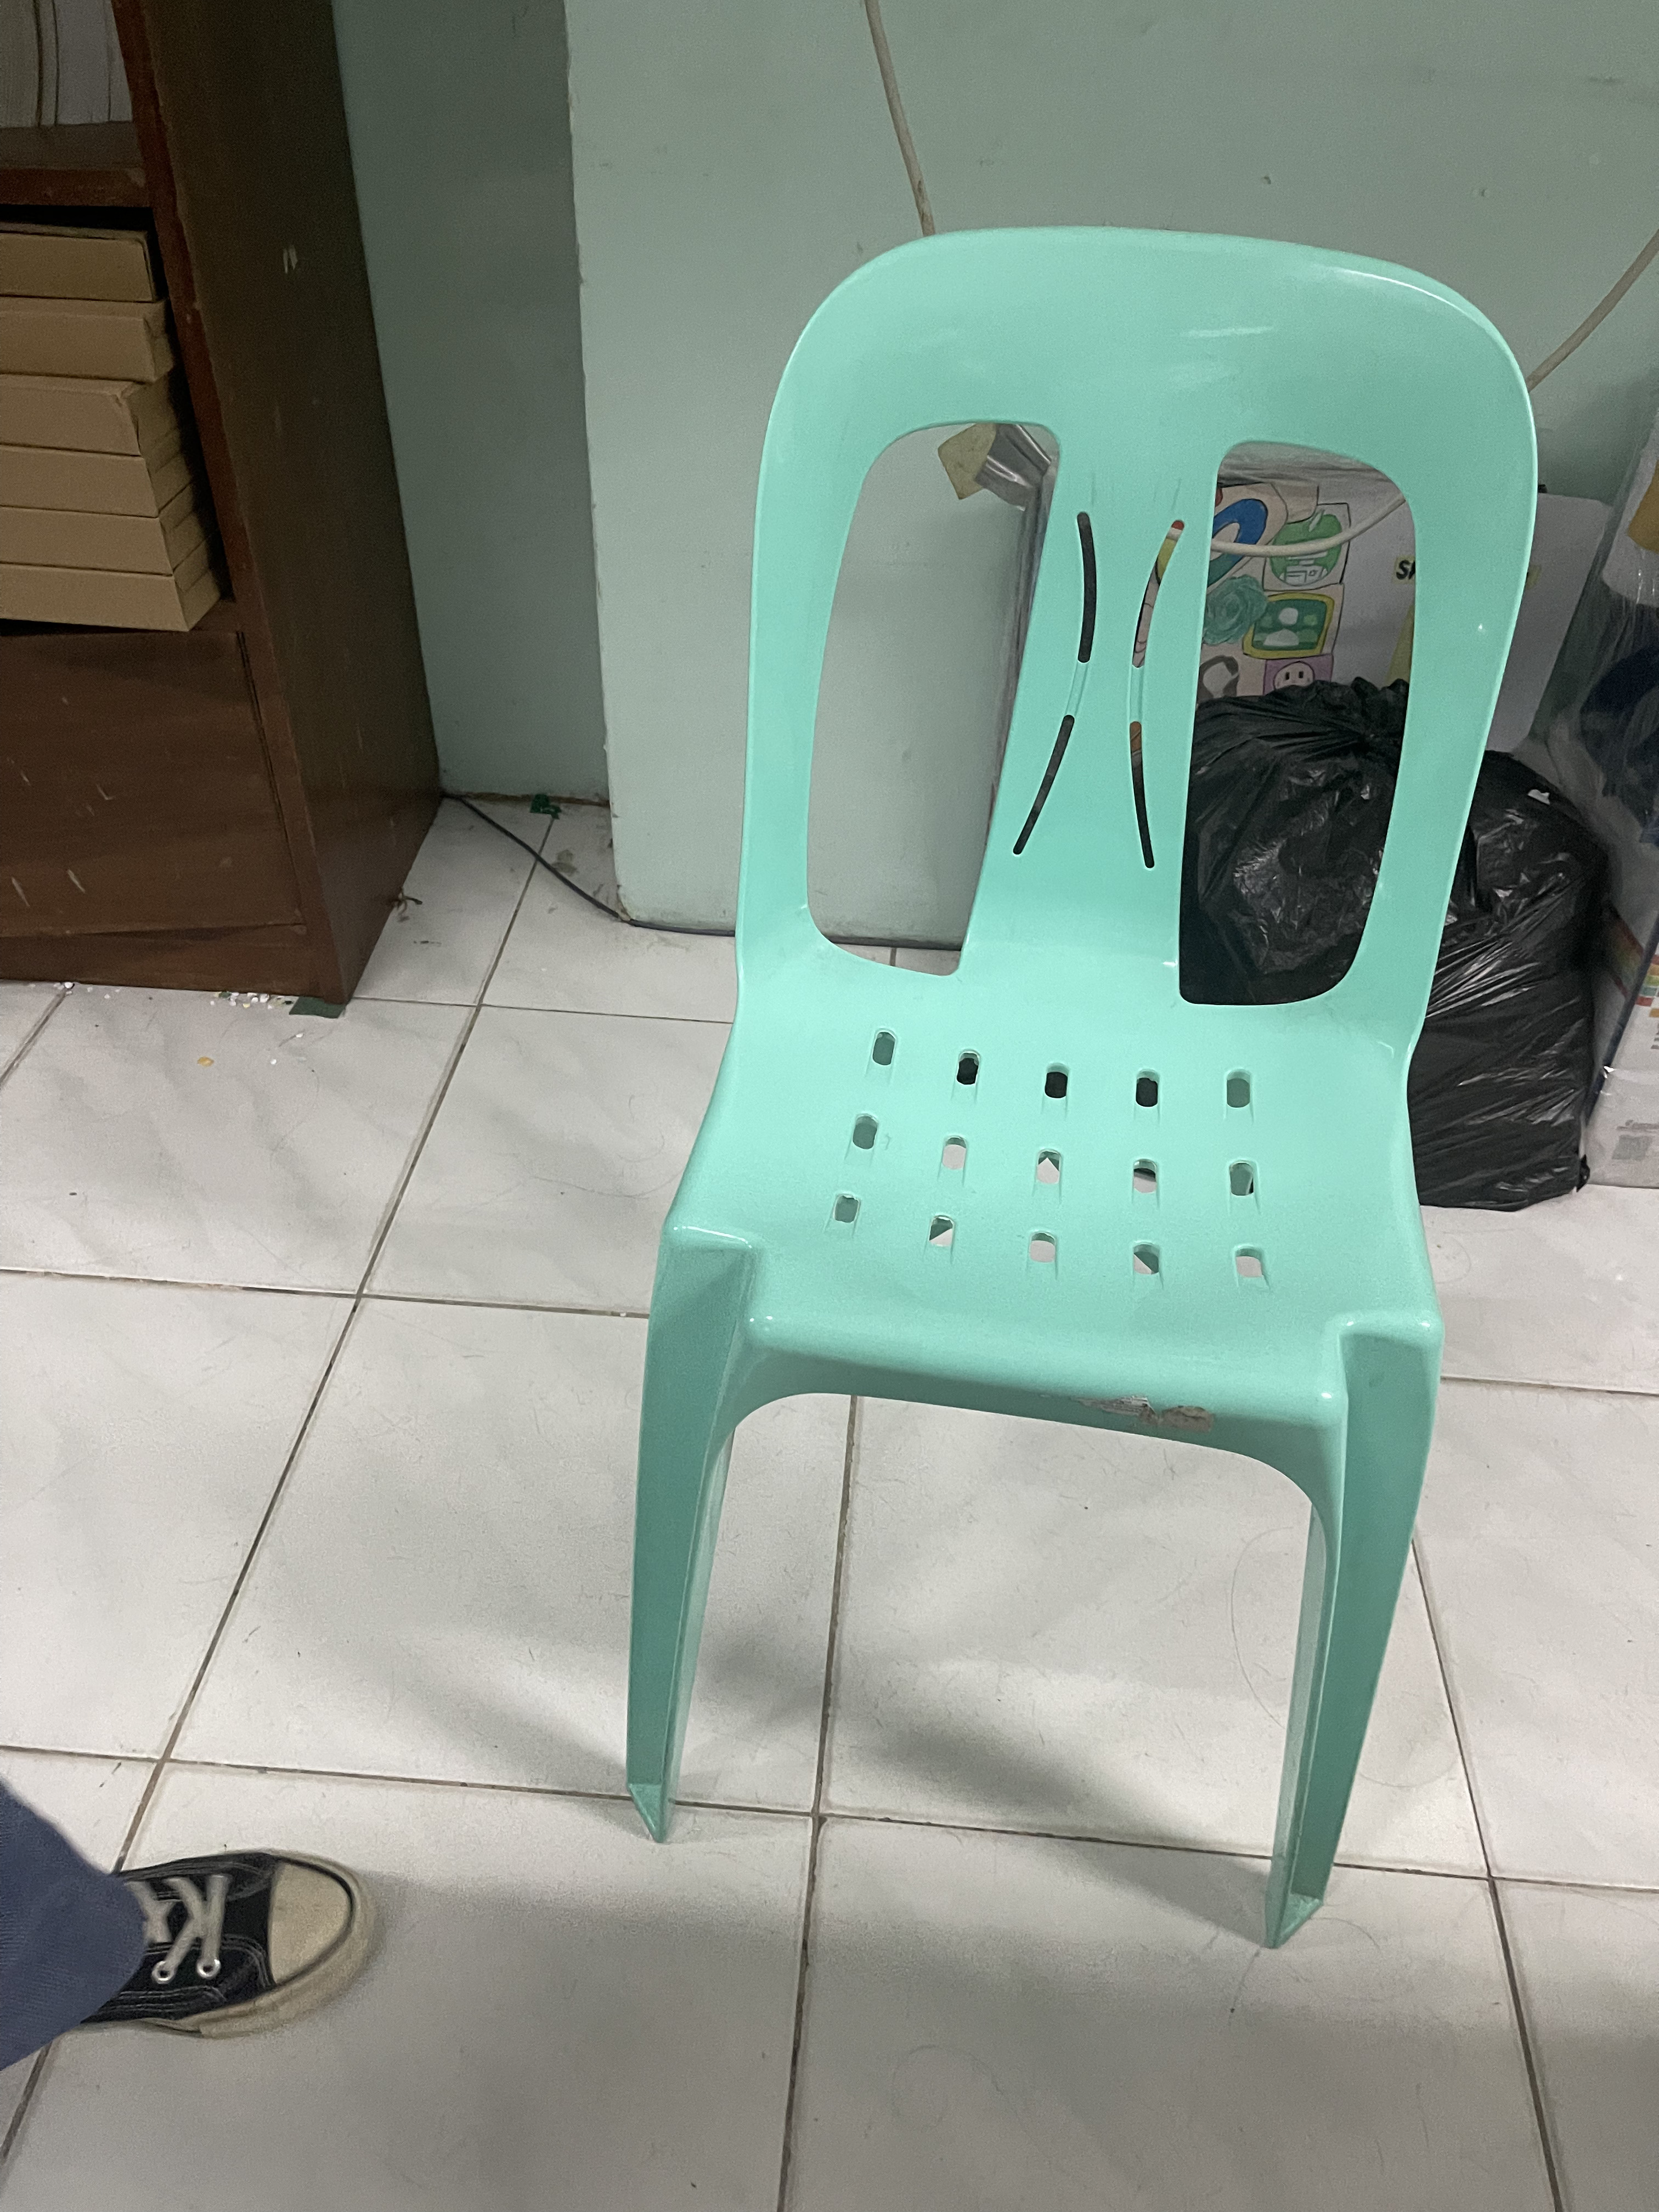chair2: (624, 226, 1554, 1958)
